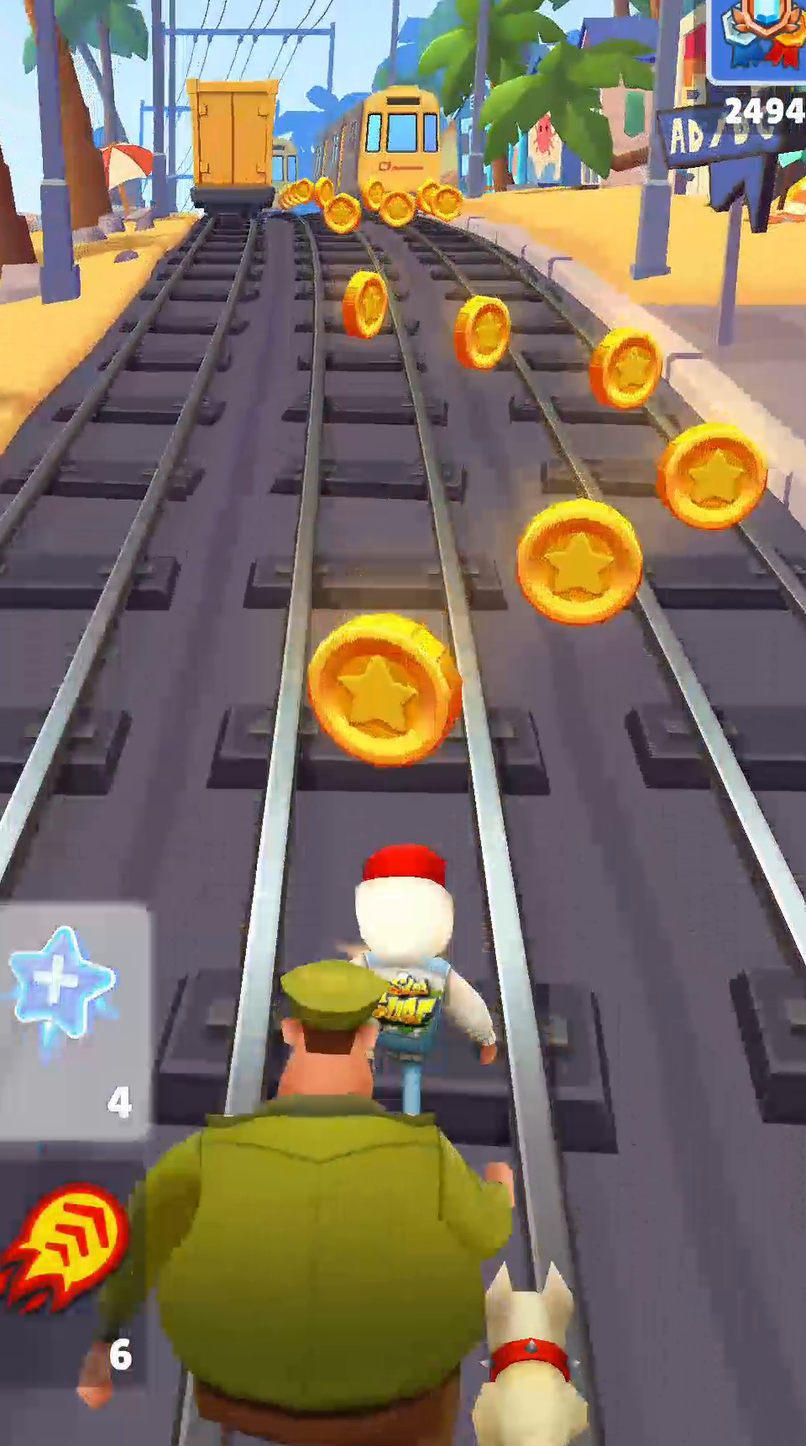police: (98, 961, 510, 1445)
train: (317, 86, 439, 190), (186, 79, 278, 212), (271, 136, 298, 191)
